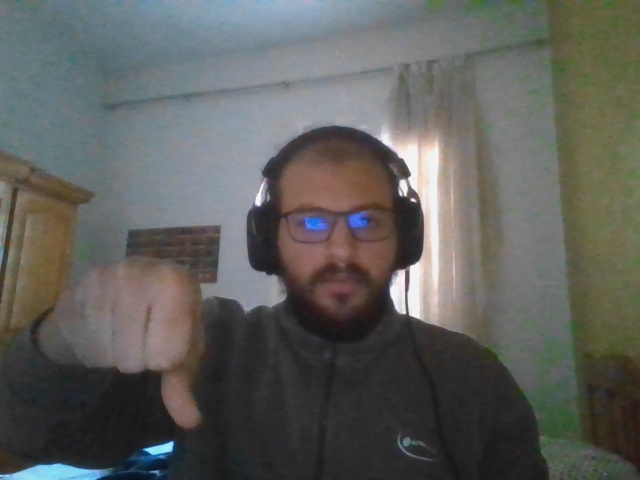Yes: (56, 258, 200, 430)
